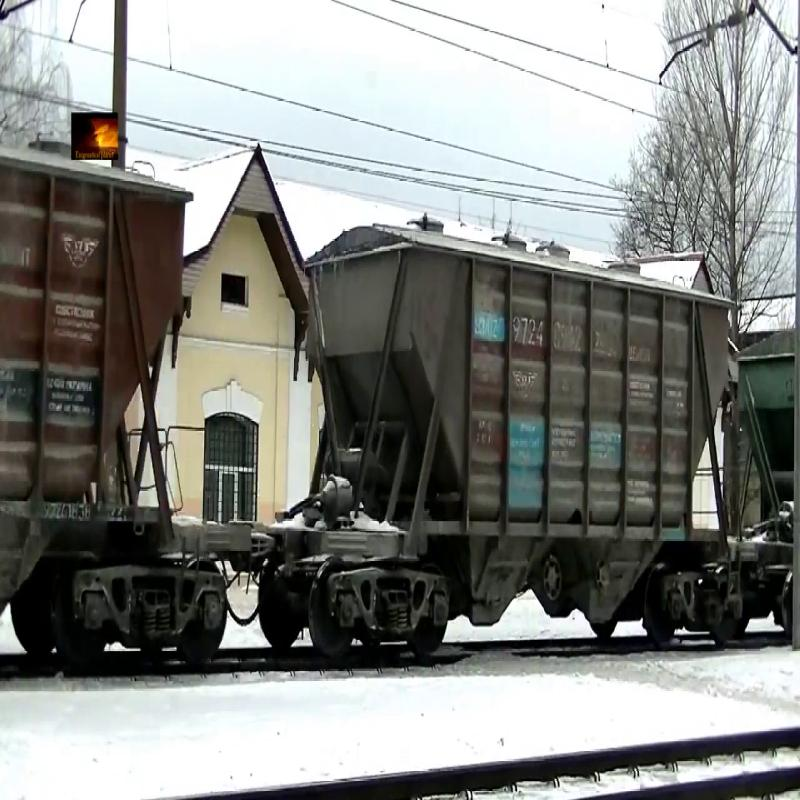train: (275, 231, 736, 638)
